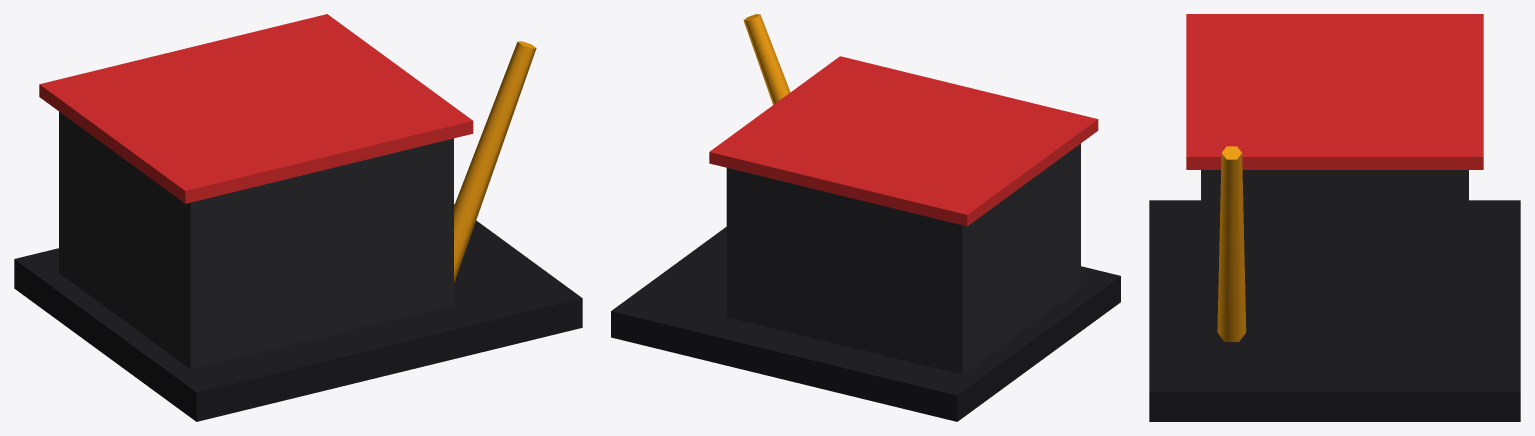
File: dock1_workshop.glb
The picture shows the model from 3 angles, left to right: view 1: azimuth 30°, elevation 25°; view 2: azimuth 150°, elevation 25°; view 3: azimuth 270°, elevation 25°; orthographic projection. The views are drawn at different scales.
Parts seen in each view (by area): view 1: Dock1Workshop; view 2: Dock1Workshop; view 3: Dock1Workshop.
Part boxes in pixels (box(x1,y1,x2,y2)): Dock1Workshop: box(14, 14, 582, 421); Dock1Workshop: box(611, 14, 1120, 421); Dock1Workshop: box(1149, 14, 1520, 421).
Bounding box in the file's own units: 11 × 7.08 × 9.
